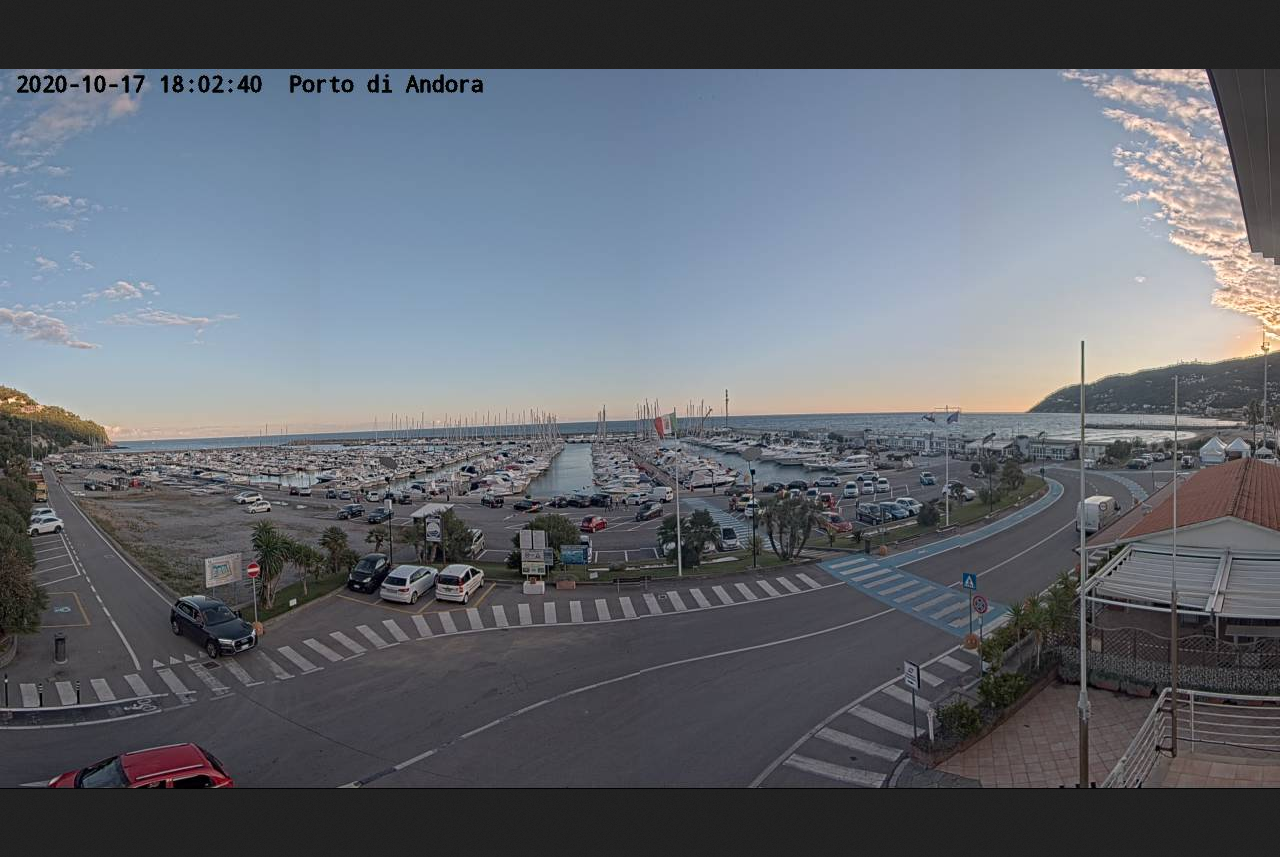yes: (649, 404, 681, 440)
